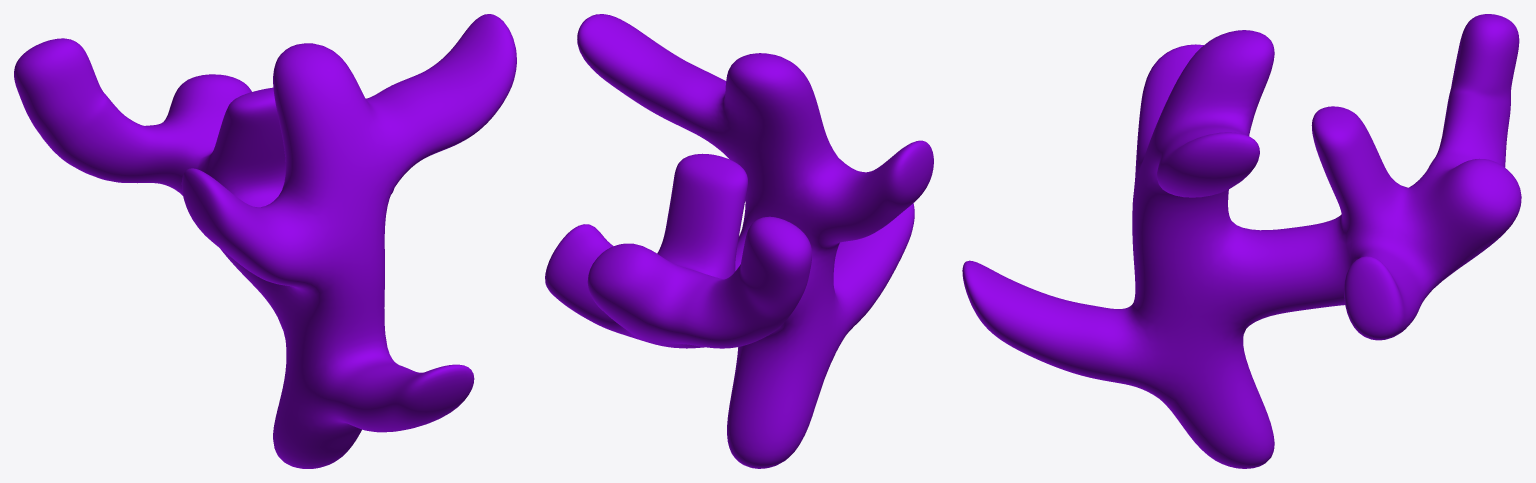
File: sea_plants_corall.glb
The picture shows the model from 3 angles, left to right: view 1: azimuth 30°, elevation 25°; view 2: azimuth 150°, elevation 25°; view 3: azimuth 270°, elevation 25°; orthographic projection. The views are drawn at different scales.
Visible parts, largest first — view 1: Cube; view 2: Cube; view 3: Cube.
Boxes of the visible parts, bbox=[...] form: Cube: bbox=[14, 14, 516, 468]; Cube: bbox=[545, 14, 933, 468]; Cube: bbox=[962, 14, 1521, 468].
Size of the model in its own units: 8.84 by 9.83 by 11.6.
